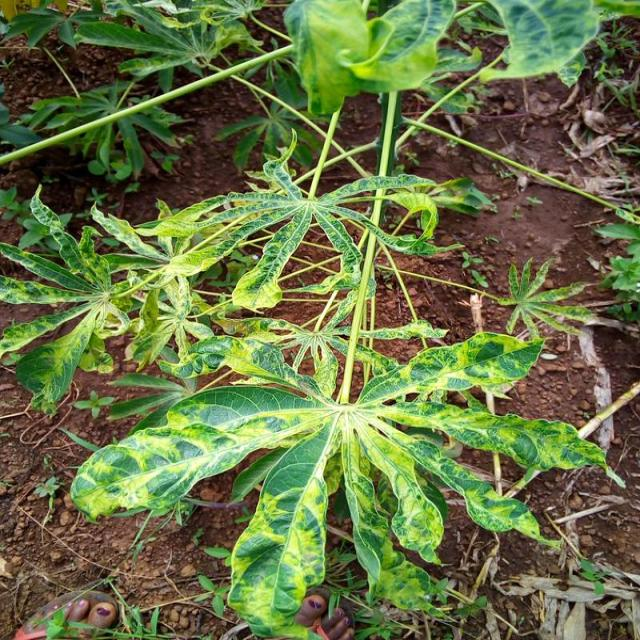cassava leaf: (282, 0, 456, 117), (478, 0, 602, 87)
